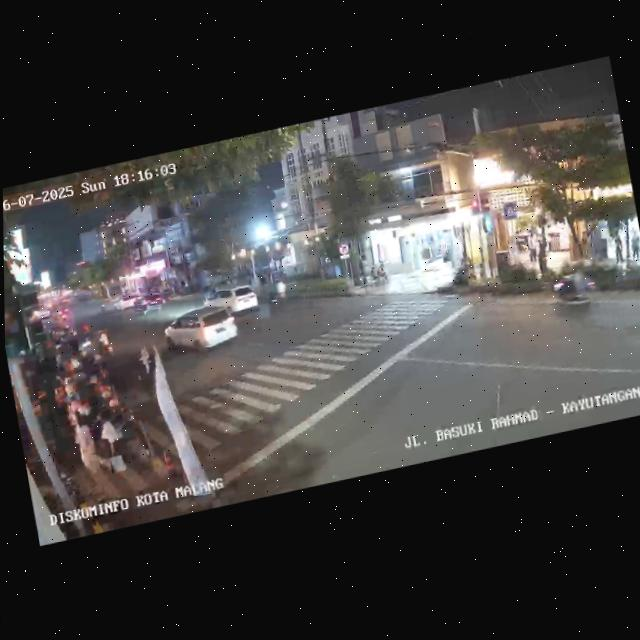car: (158, 299, 243, 365), (200, 281, 261, 321), (132, 292, 165, 318), (110, 292, 145, 315)
motorcycle: (547, 259, 600, 316), (95, 328, 115, 361), (271, 275, 291, 307)
person: (94, 405, 130, 485), (74, 412, 108, 488), (133, 342, 160, 400), (611, 233, 625, 264), (525, 233, 539, 263), (628, 229, 640, 262)
